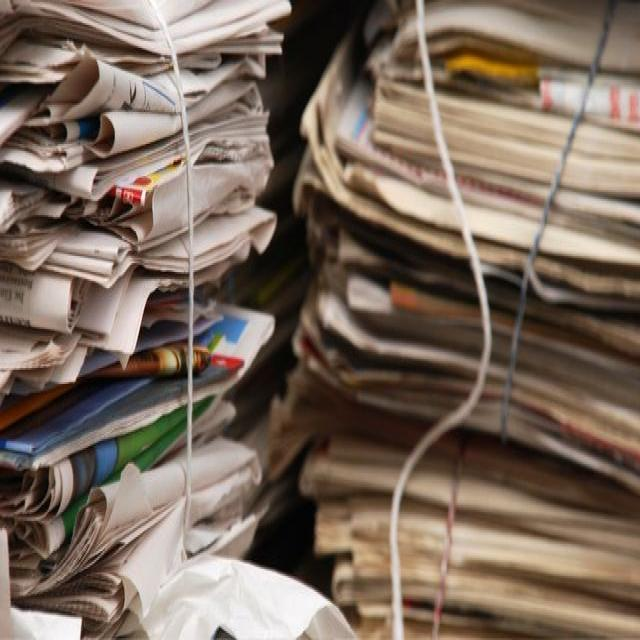Kertas: (23, 15, 305, 640)
